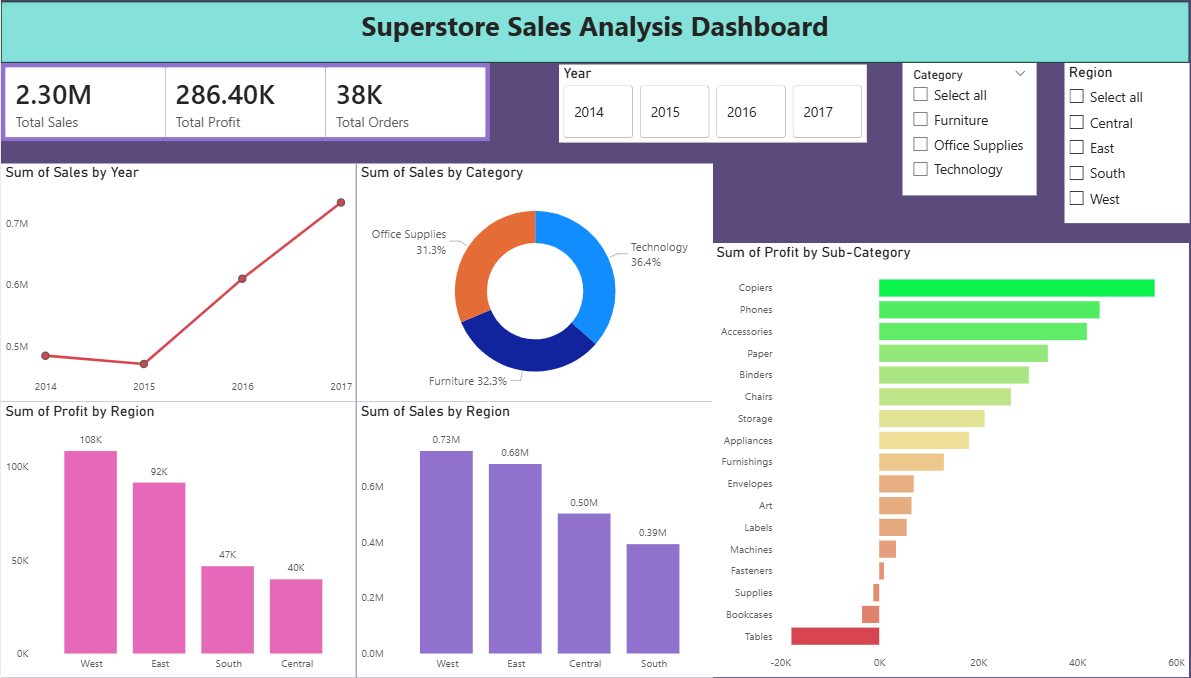

Layout of this report page (visuals, bound fields, positions):
{"tool":"powerbi","page":{"name":"Page 1","canvas":[1401,800],"ordinal":0},"visuals":[{"type":"lineChart","fields":{"Category":["Cleaned_Superstore.Order Date.Variation.Date Hierarchy.Year","Cleaned_Superstore.Order Date.Variation.Date Hierarchy.Quarter","Cleaned_Superstore.Order Date.Variation.Date Hierarchy.Month","Cleaned_Superstore.Order Date.Variation.Date Hierarchy.Day"],"Y":["Sum(Cleaned_Superstore.Sales)"]},"box":[0,192.7,418.3,280.9],"z":0},{"type":"donutChart","fields":{"Y":["Sum(Cleaned_Superstore.Sales)"],"Category":["Cleaned_Superstore.Category"]},"box":[418.3,192.7,420.3,280.9],"z":1000},{"type":"columnChart","fields":{"Category":["Cleaned_Superstore.Region"],"Y":["Sum(Cleaned_Superstore.Sales)"]},"box":[418.3,473.6,420.3,326],"z":2000},{"type":"cardVisual","fields":{"Data":["Sum(Cleaned_Superstore.Sales)","Sum(Cleaned_Superstore.Profit)","Sum(Cleaned_Superstore.Quantity)"]},"box":[0,73.8,576.1,92.3],"z":3000},{"type":"listSlicer","fields":{"Values":["Cleaned_Superstore.Region"]},"box":[1252.7,73.8,147.6,188.6],"z":4000},{"type":"advancedSlicerVisual","fields":{"Values":["Cleaned_Superstore.Year"]},"box":[658.1,75.9,362.9,92.3],"z":5000},{"type":"slicer","fields":{"Values":["Cleaned_Superstore.Category"]},"box":[1062,73.8,157.9,155.8],"z":6000},{"type":"columnChart","fields":{"Category":["Cleaned_Superstore.Region"],"Y":["Sum(Cleaned_Superstore.Profit)"]},"box":[0,473.6,418.3,326],"z":7000},{"type":"textbox","box":[0,2.1,1400.3,71.8],"z":8000},{"type":"barChart","fields":{"Category":["Cleaned_Superstore.Sub-Category"],"Y":["Sum(Cleaned_Superstore.Profit)"]},"box":[839.5,286.3,560.2,512.5],"z":9000},{"type":"barChart","box":[100,100,300,300],"z":9001}]}

Visuals, with their boxes in screenshot pixels (x1, y1, x2, y2), scaled from the page's 1401x800 canvas onto the 1191x678 screenshot:
lineChart - Cleaned_Superstore.Order Date.Variation.Date Hierarchy.Year x Cleaned_Superstore.Order Date.Variation.Date Hierarchy.Quarter: [left=0, top=163, right=356, bottom=401]
donutChart - Sum(Cleaned_Superstore.Sales) x Cleaned_Superstore.Category: [left=356, top=163, right=713, bottom=401]
columnChart - Cleaned_Superstore.Region x Sum(Cleaned_Superstore.Sales): [left=356, top=401, right=713, bottom=677]
cardVisual - Sum(Cleaned_Superstore.Sales) x Sum(Cleaned_Superstore.Profit): [left=0, top=63, right=490, bottom=141]
listSlicer - Cleaned_Superstore.Region: [left=1065, top=63, right=1190, bottom=222]
advancedSlicerVisual - Cleaned_Superstore.Year: [left=559, top=64, right=868, bottom=143]
slicer - Cleaned_Superstore.Category: [left=903, top=63, right=1037, bottom=195]
columnChart - Cleaned_Superstore.Region x Sum(Cleaned_Superstore.Profit): [left=0, top=401, right=356, bottom=677]
textbox: [left=0, top=2, right=1190, bottom=63]
barChart - Cleaned_Superstore.Sub-Category x Sum(Cleaned_Superstore.Profit): [left=714, top=243, right=1190, bottom=677]
barChart: [left=85, top=85, right=340, bottom=339]
